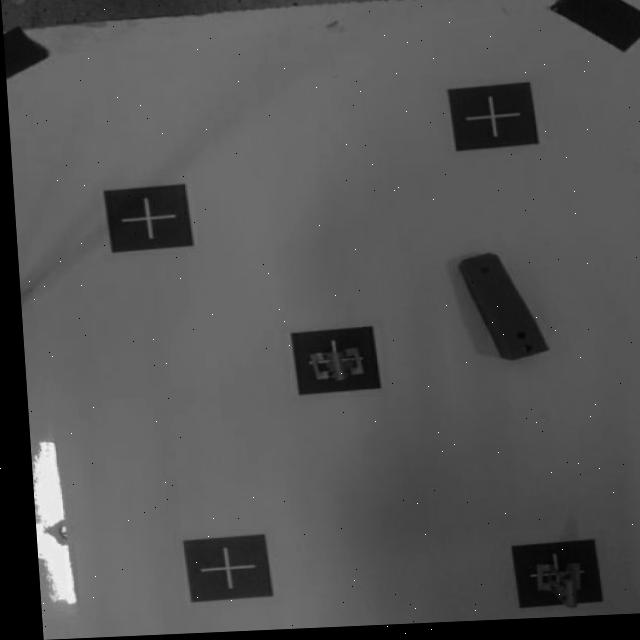pick3: (291, 323, 378, 395)
pick4: (512, 540, 601, 609)
